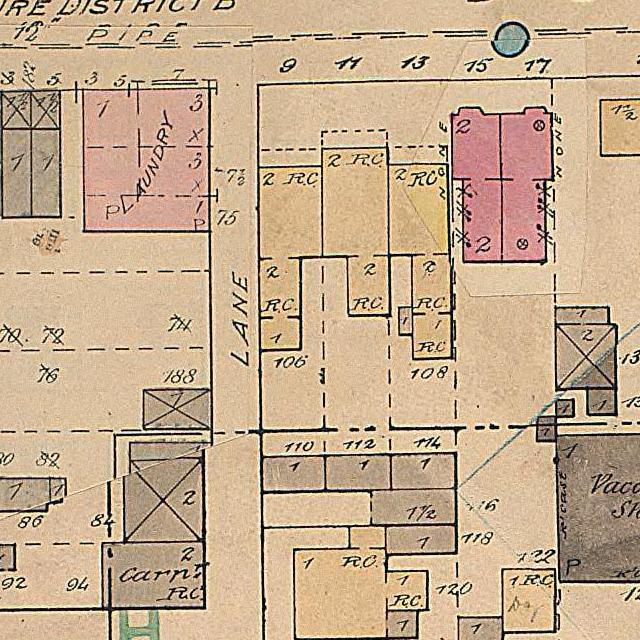building-footprints: (83, 89, 210, 232), (294, 526, 427, 639), (556, 434, 640, 582), (389, 164, 452, 359), (258, 166, 322, 350), (322, 148, 390, 316), (500, 108, 553, 262), (452, 108, 502, 262), (124, 458, 205, 542), (102, 543, 204, 607), (555, 308, 615, 388), (503, 569, 555, 632), (371, 490, 456, 524), (144, 390, 212, 429), (2, 129, 32, 217), (32, 129, 60, 217), (391, 454, 457, 489), (326, 455, 391, 490), (262, 457, 326, 492), (601, 99, 640, 156), (386, 525, 457, 554), (0, 479, 50, 511), (130, 443, 204, 458), (31, 91, 60, 129), (2, 92, 31, 129), (459, 618, 503, 640), (587, 388, 616, 414), (537, 416, 555, 442), (399, 307, 413, 335), (50, 479, 66, 503), (0, 545, 15, 570), (556, 400, 574, 417)
